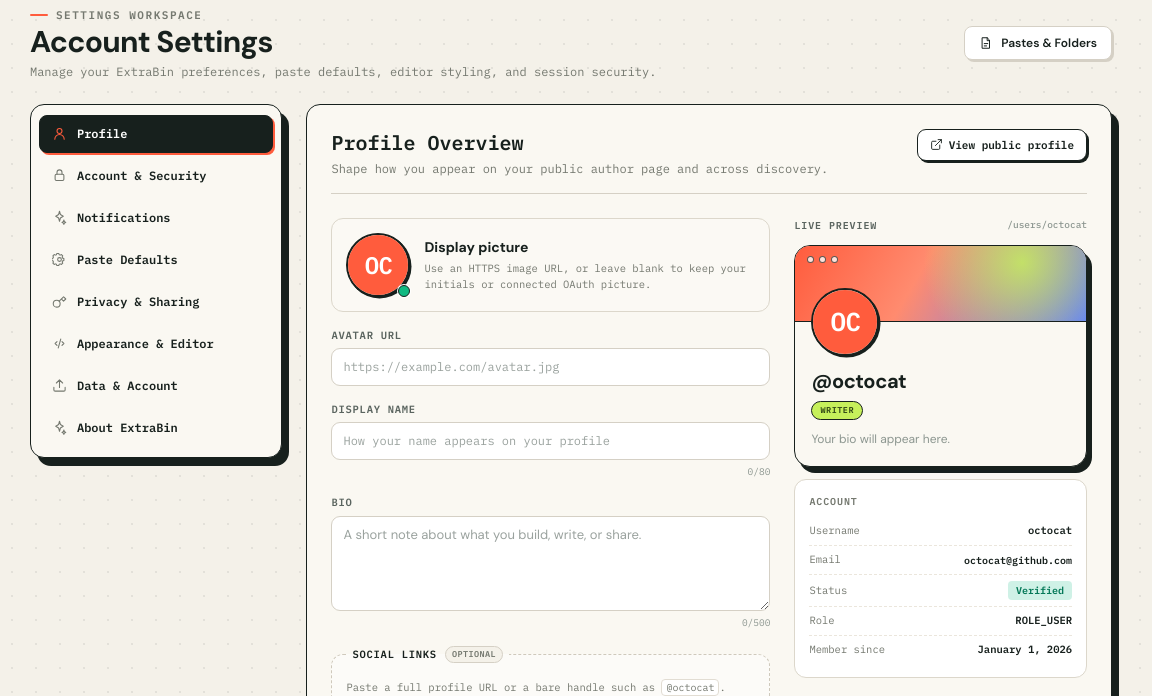
Test: Phase 2 Red Suite: Settings Workspace Contract Tests › FE-SET-DEF-03: handles localStorage write errors (QuotaExceededError) with a user-facing error message
Click the tab "Paste Defaults".
click(156, 260)  # box [39,240,274,278]
(page scrolled)
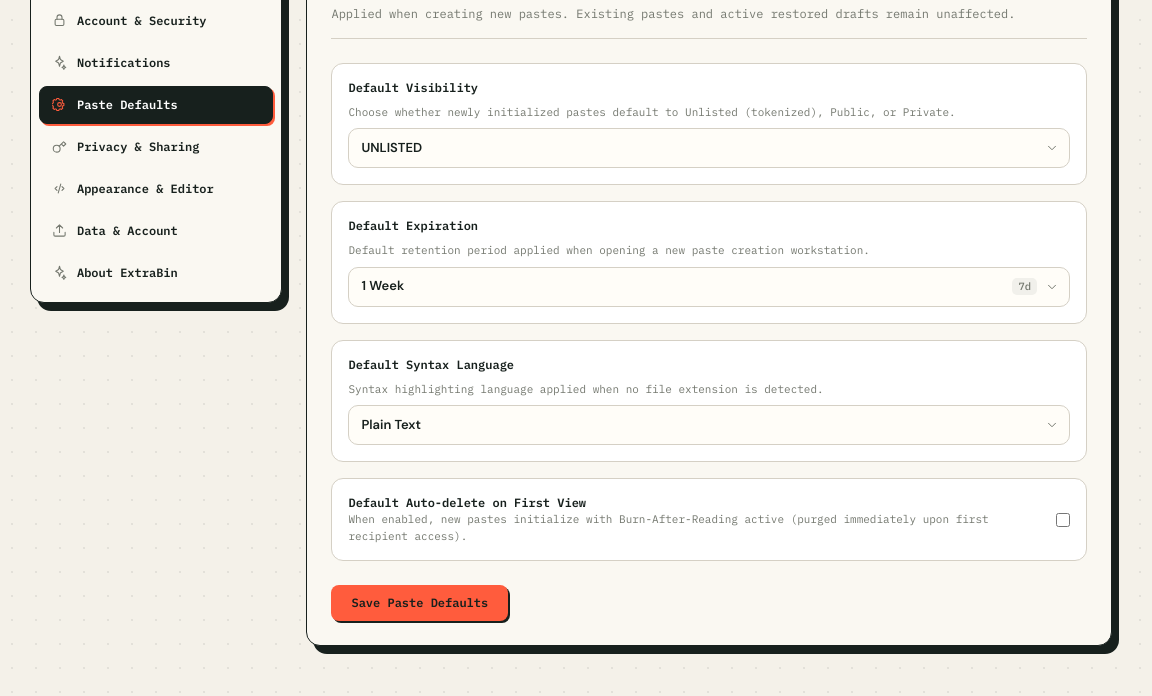
Click the button "Save Paste Defaults".
click(420, 603)  # box [332,585,508,621]
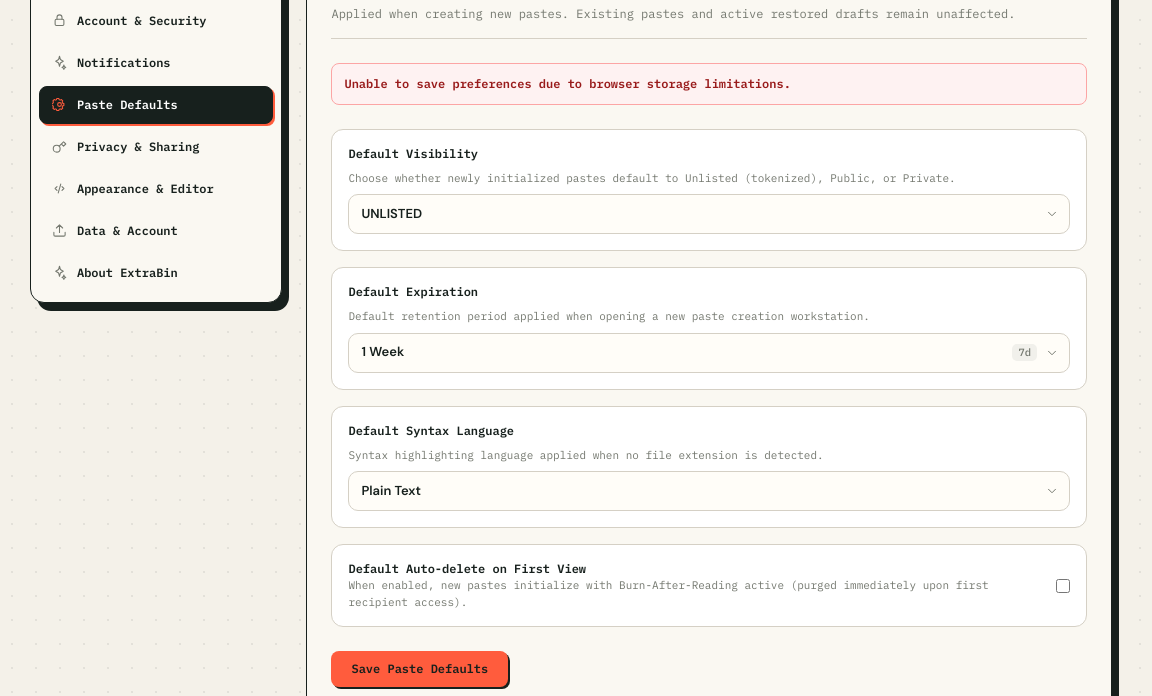
Result: the text "Unable to save preferences due to browser storage limitations" is shown at [344,76,791,90]
